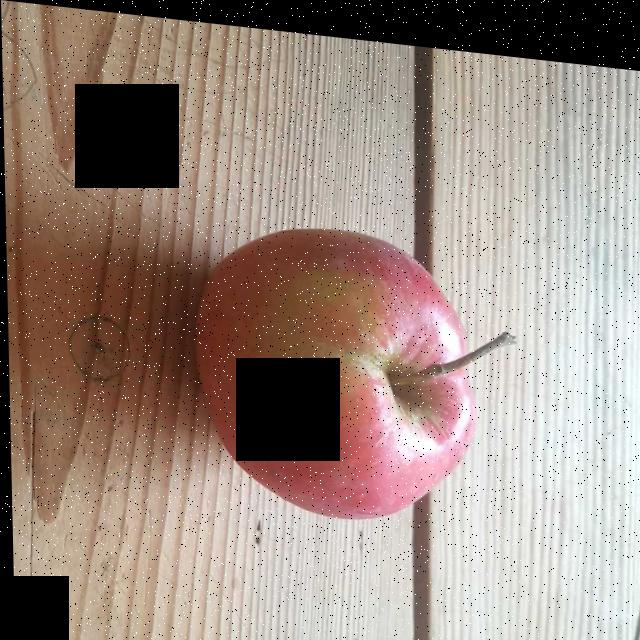apple: (196, 224, 481, 512)
